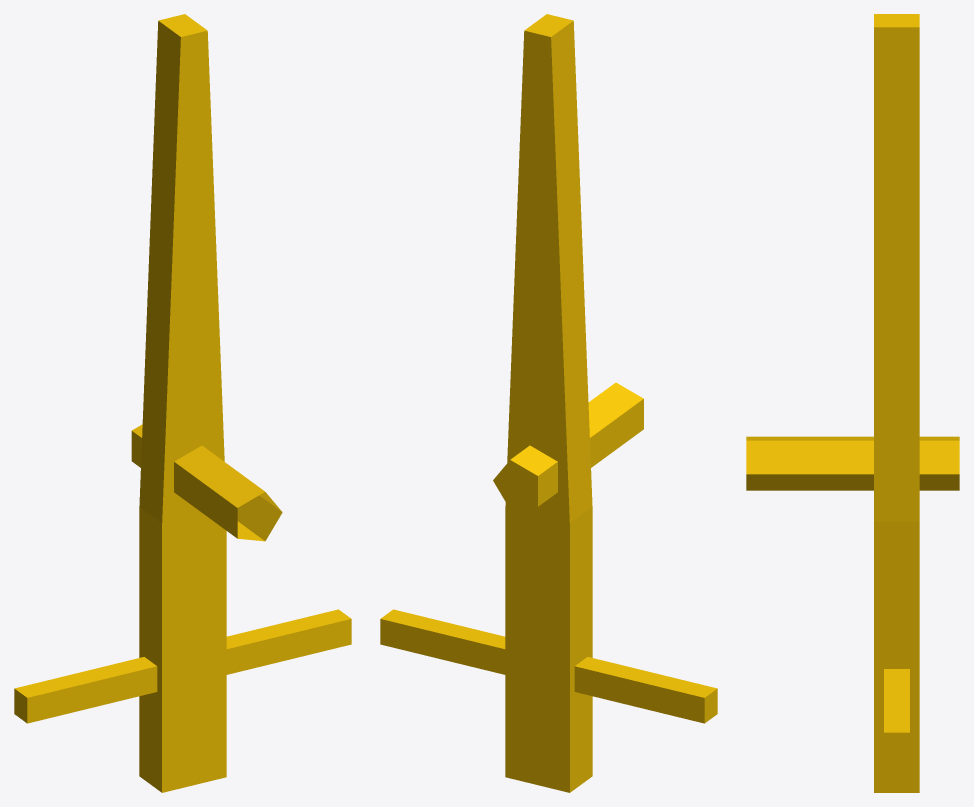
Rendered from strelka1.fbx.
3 views of the same model, side by side, from view 1: azimuth 30°, elevation 25°; view 2: azimuth 150°, elevation 25°; view 3: azimuth 270°, elevation 25° (orthographic).
Parts seen in each view (by area): view 1: strelka; view 2: strelka; view 3: strelka.
Boxes of the visible parts, x1,y1,x2,y2 form: strelka: [14, 14, 351, 792]; strelka: [380, 14, 717, 792]; strelka: [746, 14, 959, 792].
Size of the model in its own units: 0.8438 by 1.87 by 0.477.
Materials: 1 (1 with a texture image).
